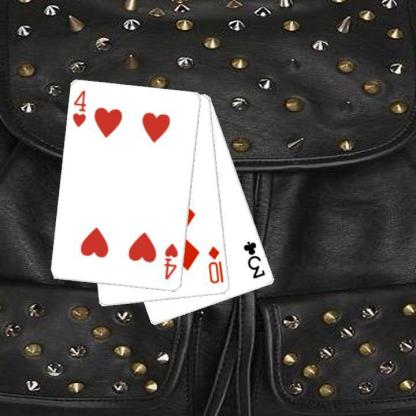10D: (207, 244, 226, 285)
3C: (241, 239, 267, 280)
4H: (161, 241, 180, 281), (70, 88, 88, 129)
